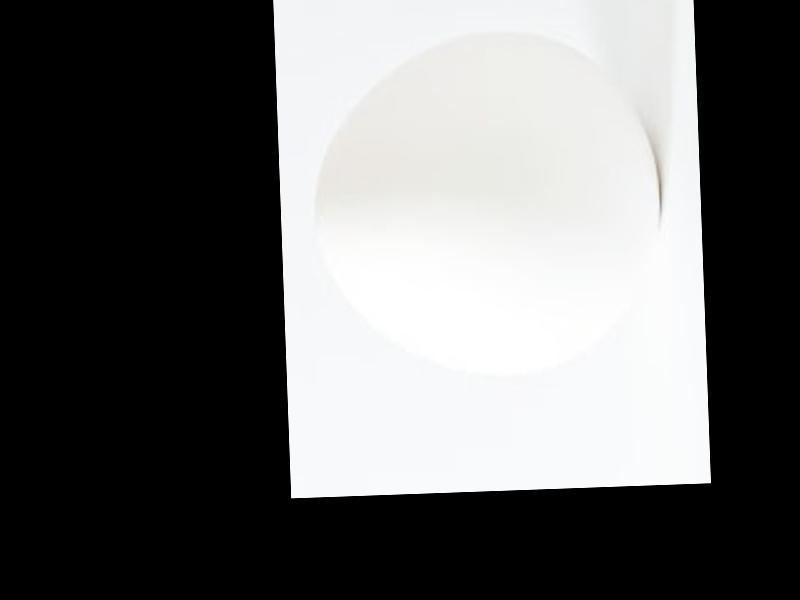Eggs: (307, 29, 665, 380)
